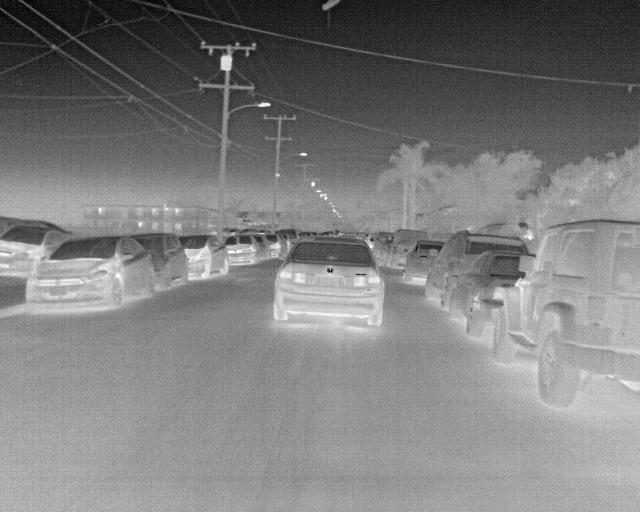car: (486, 216, 638, 411), (269, 236, 386, 331), (22, 236, 156, 311), (422, 229, 535, 311), (445, 251, 528, 333), (2, 225, 68, 280), (138, 234, 190, 290), (184, 234, 230, 283), (403, 243, 447, 287), (389, 230, 422, 273), (227, 234, 262, 266), (243, 228, 269, 264), (371, 230, 394, 268), (261, 233, 281, 261), (285, 226, 299, 246)
